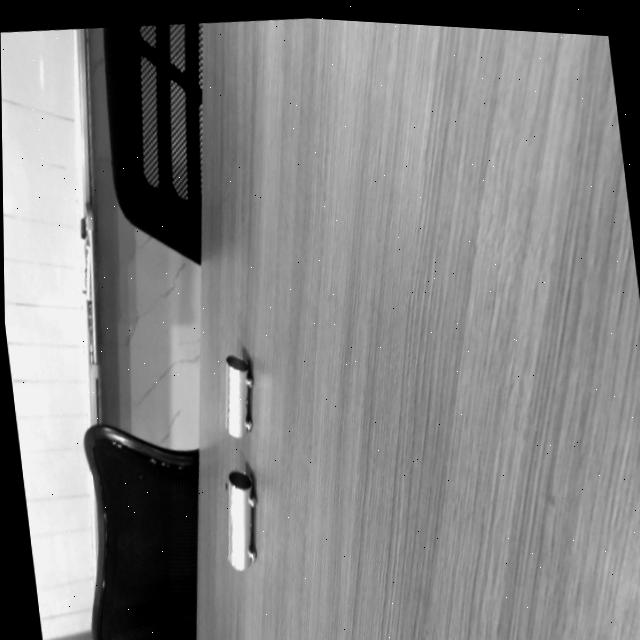Co_Lon: (226, 471, 255, 570)
Co_Nho: (225, 356, 252, 438)
